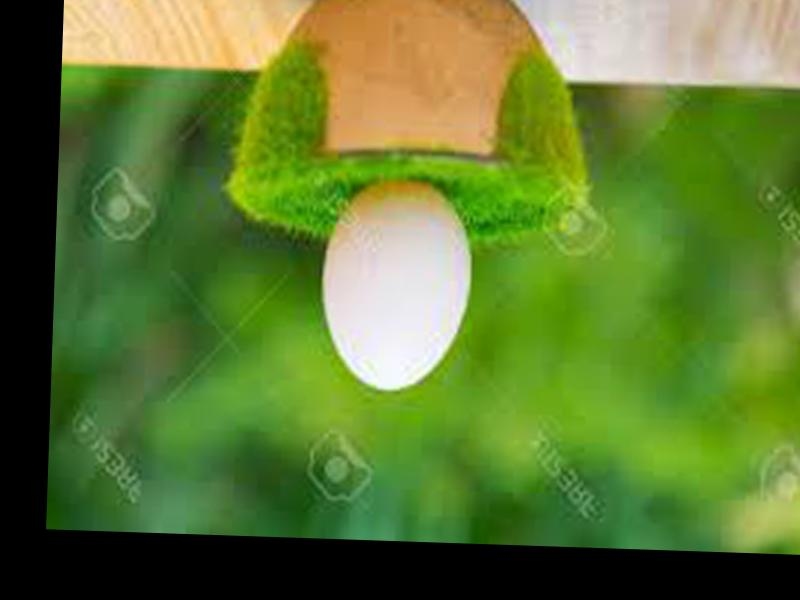Eggs: (322, 177, 477, 388)
